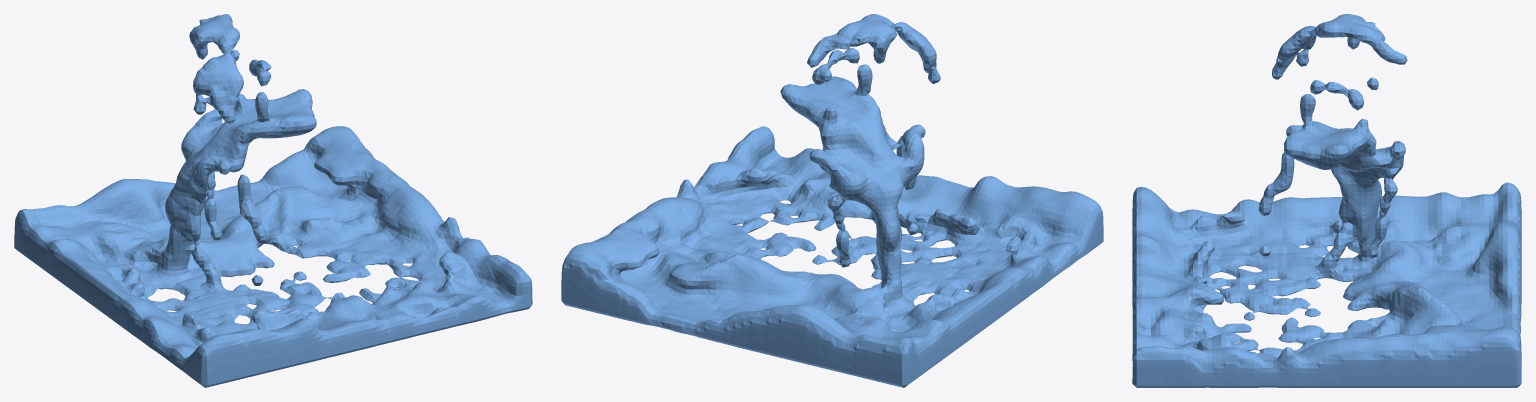
Rendered from water_0091.glb.
3 views of the same model, side by side, from view 1: azimuth 30°, elevation 25°; view 2: azimuth 150°, elevation 25°; view 3: azimuth 270°, elevation 25° (orthographic). The views are drawn at different scales.
Visible parts, largest first — view 1: Water_0091; view 2: Water_0091; view 3: Water_0091.
Part boxes in pixels (x1,y1,x2,y2): Water_0091: (14,14,532,387); Water_0091: (561,14,1103,387); Water_0091: (1132,14,1521,387).
Bounding box in the file's own units: 4.83 × 3.62 × 4.83.
